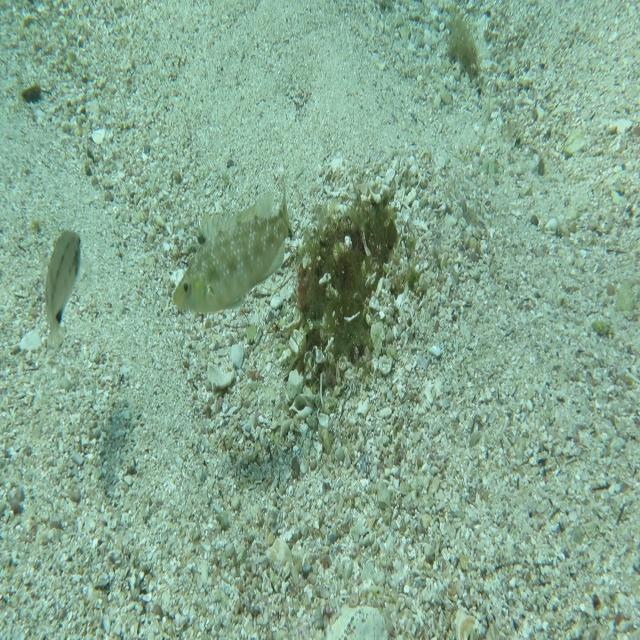CHASE_FLEE: (172, 183, 296, 317)
female: (44, 229, 84, 354)
nest: (272, 175, 417, 412)
